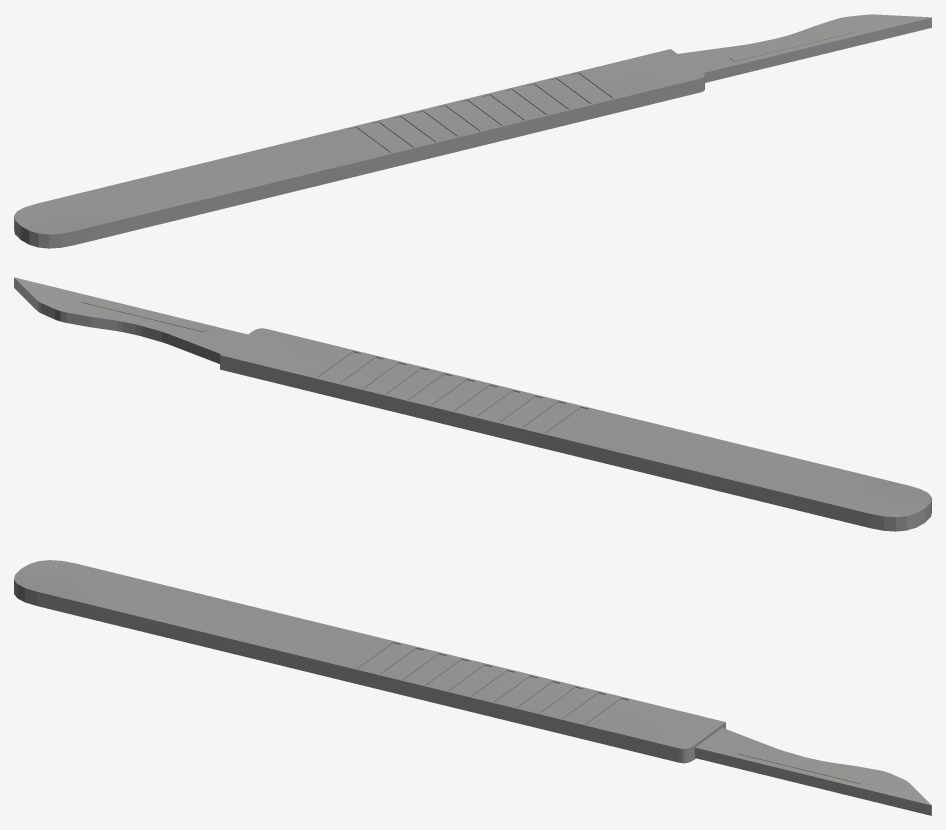
The model's file is scalpel.glb.
The picture shows the model from 3 angles, top to bottom: view 1: azimuth 30°, elevation 25°; view 2: azimuth 150°, elevation 25°; view 3: azimuth 330°, elevation 25°; orthographic projection. The views are drawn at different scales.
Parts seen in each view (by area): view 1: scalpel; view 2: scalpel; view 3: scalpel.
Part boxes in pixels (x1=…): scalpel: x1=14, y1=14, x2=931, y2=248; scalpel: x1=14, y1=277, x2=931, y2=531; scalpel: x1=14, y1=560, x2=931, y2=815.
Size of the model in its own units: 0.15 by 0.00223 by 0.0109.
Materials: 1 (1 with a texture image).
